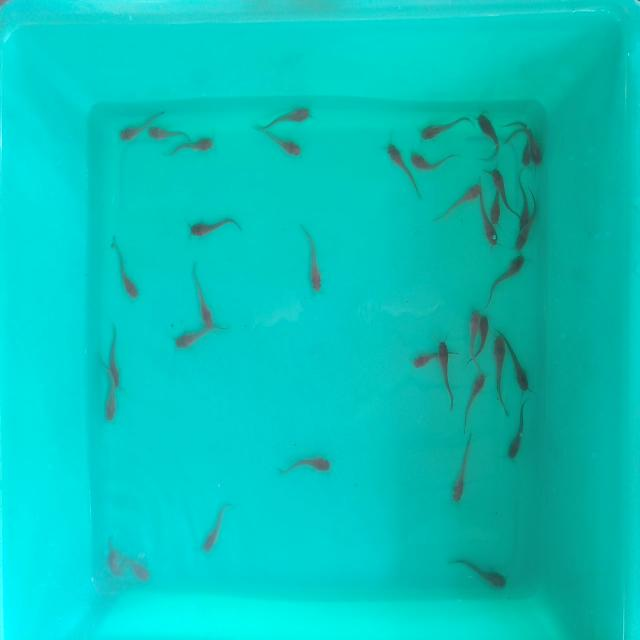lele: (480, 252, 530, 311), (449, 554, 509, 594), (433, 180, 481, 224), (110, 242, 144, 300), (199, 500, 233, 556), (458, 374, 488, 434), (437, 342, 460, 414), (452, 437, 475, 505), (260, 126, 304, 159), (304, 226, 325, 294), (508, 336, 532, 395), (257, 103, 313, 128), (386, 142, 410, 196), (475, 112, 502, 160), (409, 338, 443, 374), (194, 264, 214, 325), (493, 332, 508, 412), (186, 215, 240, 237), (420, 116, 469, 140), (173, 328, 231, 348), (508, 406, 529, 461), (280, 456, 336, 476), (169, 133, 218, 154), (411, 153, 453, 172), (110, 323, 123, 384), (489, 167, 514, 197), (115, 121, 148, 143), (128, 549, 150, 582), (516, 172, 530, 223), (101, 386, 118, 427), (514, 227, 544, 249), (515, 128, 531, 167), (109, 548, 127, 582), (147, 124, 190, 138), (469, 305, 479, 360), (480, 312, 490, 358), (532, 126, 544, 164), (483, 222, 501, 247), (490, 198, 503, 225)
